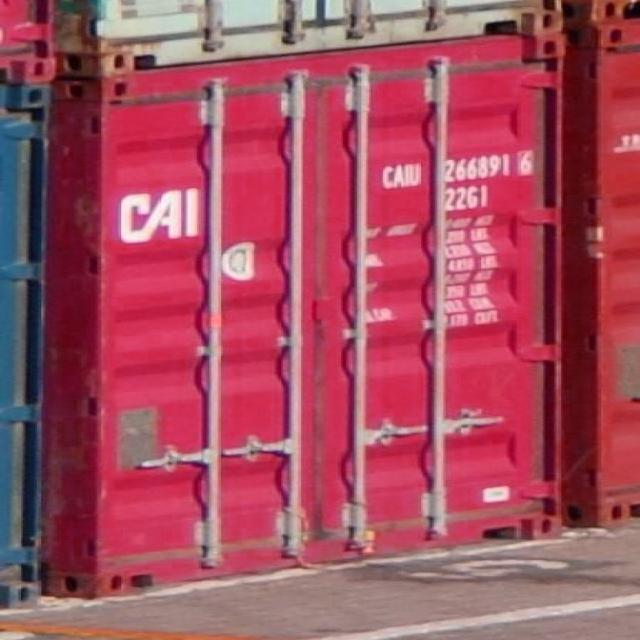ISO: (444, 186, 491, 212)
container_number: (384, 154, 536, 182)
